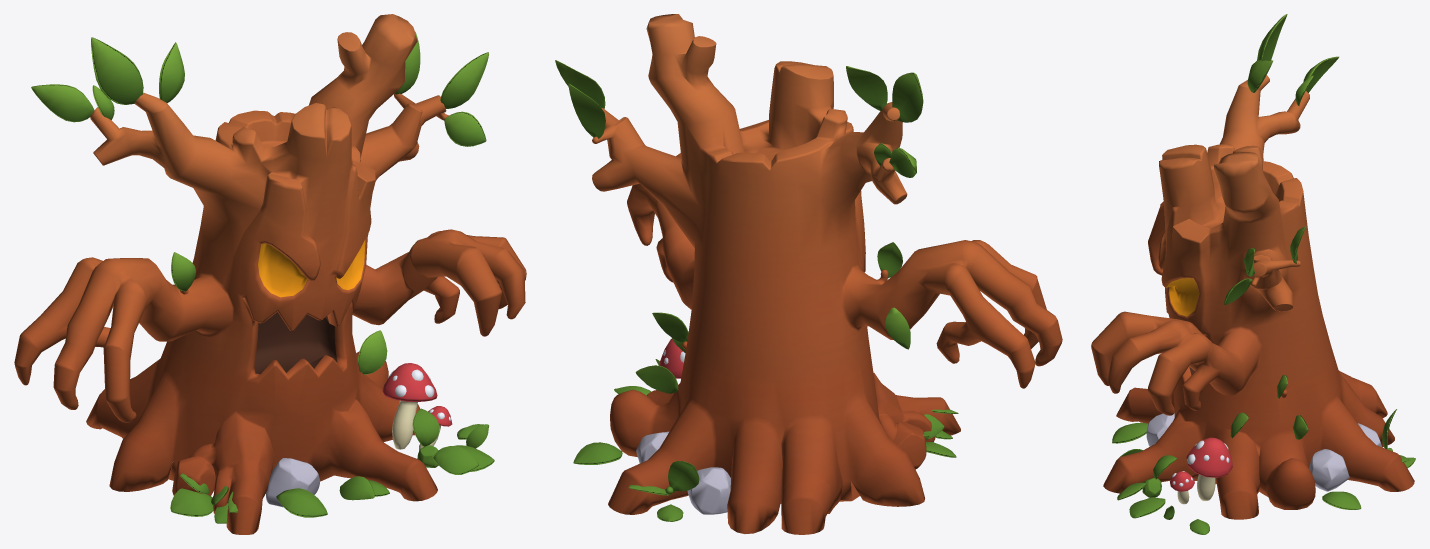
File: evil_tree.fbx
3 renders of one model, left to right at view 1: azimuth 30°, elevation 25°; view 2: azimuth 150°, elevation 25°; view 3: azimuth 270°, elevation 25°, orthographic. The views are drawn at different scales.
Visible parts, largest first — view 1: WBA_Creature_MonsterPlant_01, WBA_Creature_MonsterPlant_01_Ext; view 2: WBA_Creature_MonsterPlant_01, WBA_Creature_MonsterPlant_01_Ext; view 3: WBA_Creature_MonsterPlant_01, WBA_Creature_MonsterPlant_01_Ext.
Boxes of the visible parts, x1,y1,x2,y2 form: WBA_Creature_MonsterPlant_01: (14,14,526,534); WBA_Creature_MonsterPlant_01_Ext: (170,408,494,523); WBA_Creature_MonsterPlant_01: (555,14,1062,534); WBA_Creature_MonsterPlant_01_Ext: (573,359,958,521); WBA_Creature_MonsterPlant_01: (1091,14,1414,519); WBA_Creature_MonsterPlant_01_Ext: (1112,409,1415,534).
Size of the model in its own units: 447 by 397 by 308.
